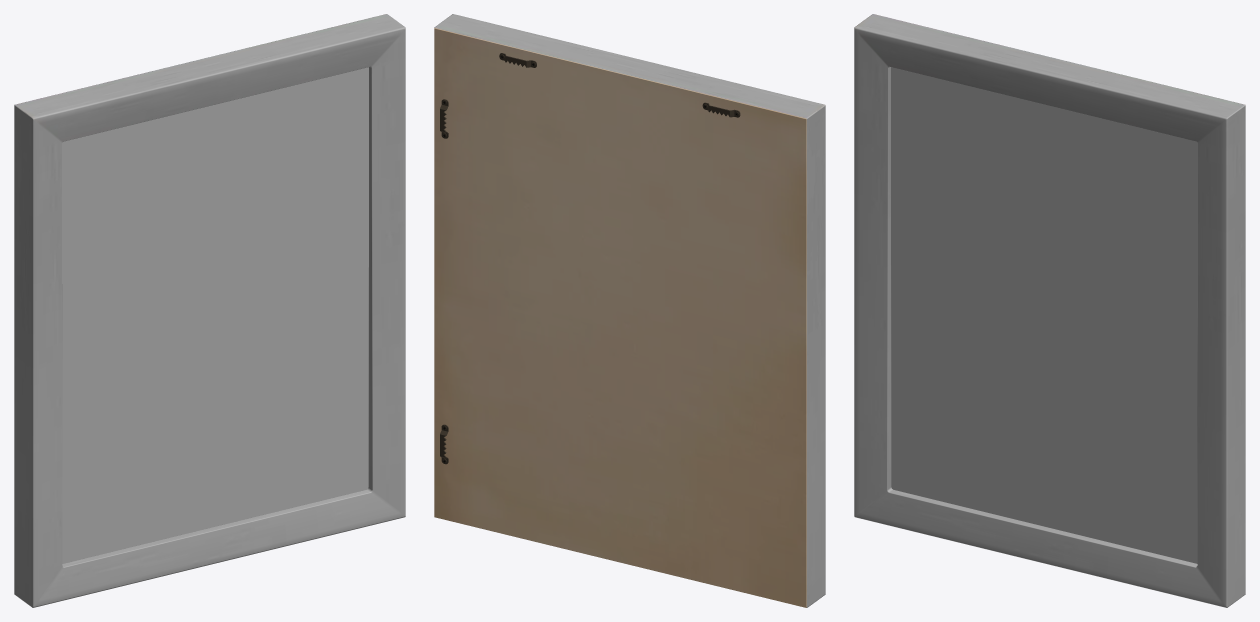
Rendered from abo-B07RRR3R56.glb.
3 views of the same model, side by side, from view 1: azimuth 30°, elevation 25°; view 2: azimuth 150°, elevation 25°; view 3: azimuth 330°, elevation 25° (orthographic).
Size of the model in its own units: 0.405 by 0.508 by 0.041.
Materials: 1 (1 with a texture image).
